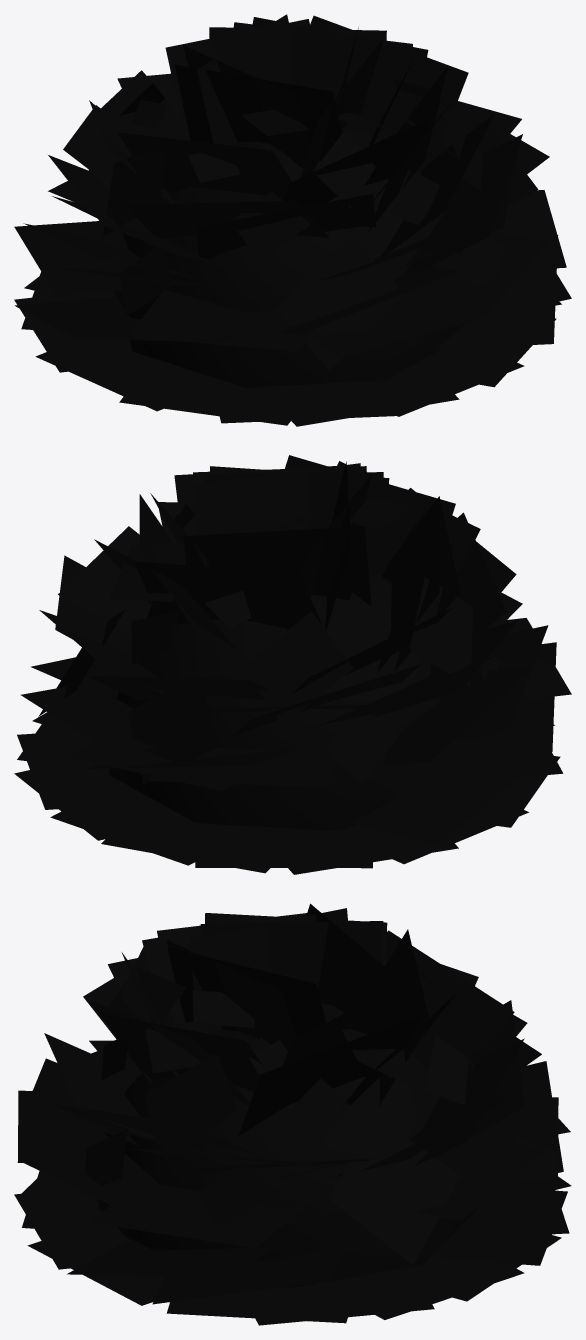
Rendered from FBX_Bush_3.fbx.
3 views of the same model, one above another, from view 1: azimuth 30°, elevation 25°; view 2: azimuth 150°, elevation 25°; view 3: azimuth 270°, elevation 25° (orthographic). The views are drawn at different scales.
Parts seen in each view (by area): view 1: Bush_Flowers; view 2: Bush_Flowers; view 3: Bush_Flowers.
Part boxes in pixels (x1,y1,x2,y2): Bush_Flowers: [14, 14, 571, 426]; Bush_Flowers: [14, 455, 571, 874]; Bush_Flowers: [14, 903, 571, 1325].
Size of the model in its own units: 75.5 by 74.52 by 39.17.
